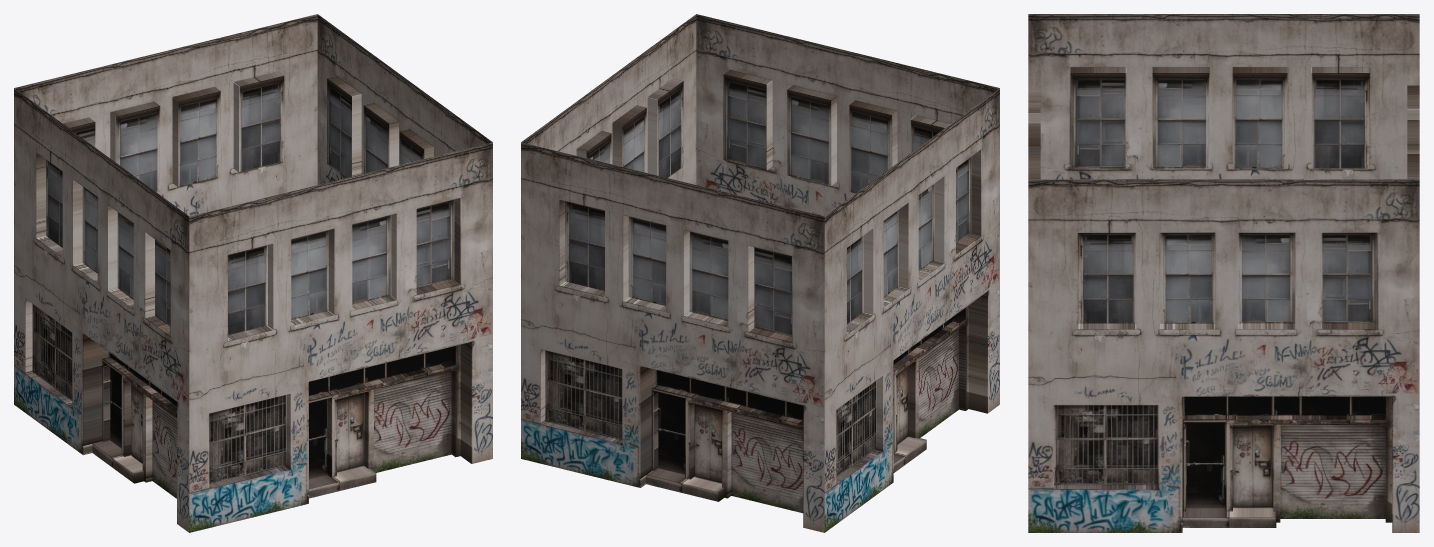
File: oldbld.glb
3 views of the same model, side by side, from view 1: azimuth 30°, elevation 25°; view 2: azimuth 150°, elevation 25°; view 3: azimuth 270°, elevation 25° (orthographic). The views are drawn at different scales.
Parts seen in each view (by area): view 1: building.001, building.002, building.003, building; view 2: building.003, building.002, building.001, building; view 3: building, building.002, building.003, building.001.
Part boxes in pixels (<box>): building.001: <box>189,142,492,532</box>; building.002: <box>14,88,189,532</box>; building.003: <box>14,14,317,216</box>; building: <box>317,14,492,184</box>; building.003: <box>521,142,824,532</box>; building.002: <box>824,88,999,532</box>; building.001: <box>696,14,999,216</box>; building: <box>521,14,696,184</box>; building: <box>1028,179,1419,532</box>; building.002: <box>1028,14,1419,179</box>; building.003: <box>1407,85,1419,179</box>; building.001: <box>1028,88,1040,179</box>.
Bounding box in the file's own units: 9.04 × 9.01 × 9.04.
2 materials, 2 textured.
